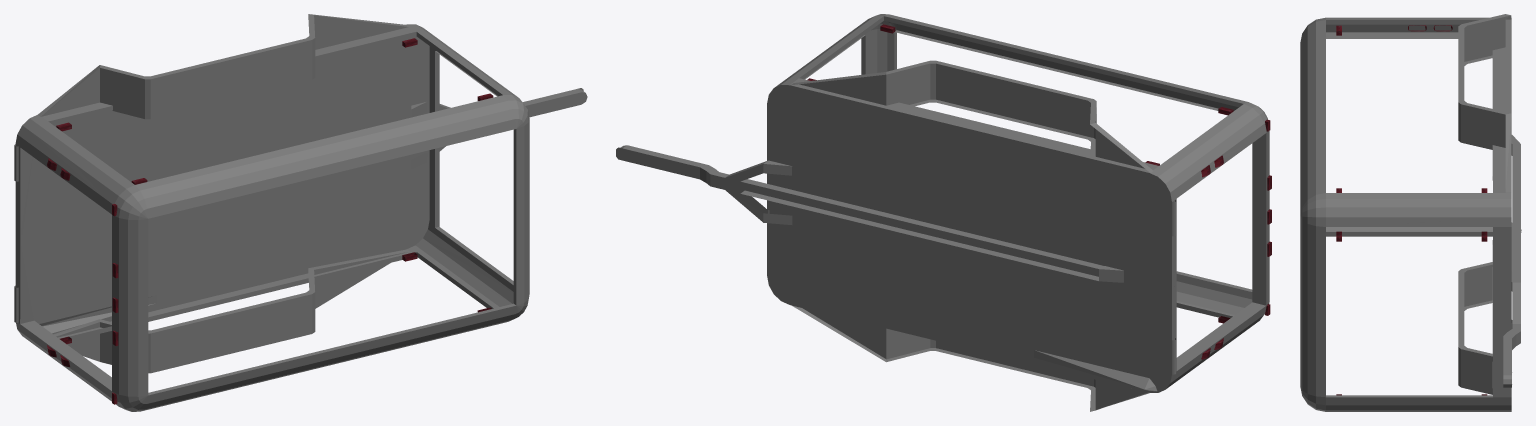
Rendered from details.obj.
3 renders of one model, left to right at view 1: azimuth 30°, elevation 25°; view 2: azimuth 150°, elevation 25°; view 3: azimuth 270°, elevation 25°, orthographic. The views are drawn at different scales.
Parts seen in each view (by area): view 1: (null); view 2: (null); view 3: (null).
Boxes of the visible parts, <box> form: (null): <box>14,14,587,411</box>; (null): <box>616,14,1271,411</box>; (null): <box>1300,14,1521,411</box>.
Size of the model in its own units: 5.04 by 2.48 by 1.76.
Materials: 2 (1 with a texture image).
